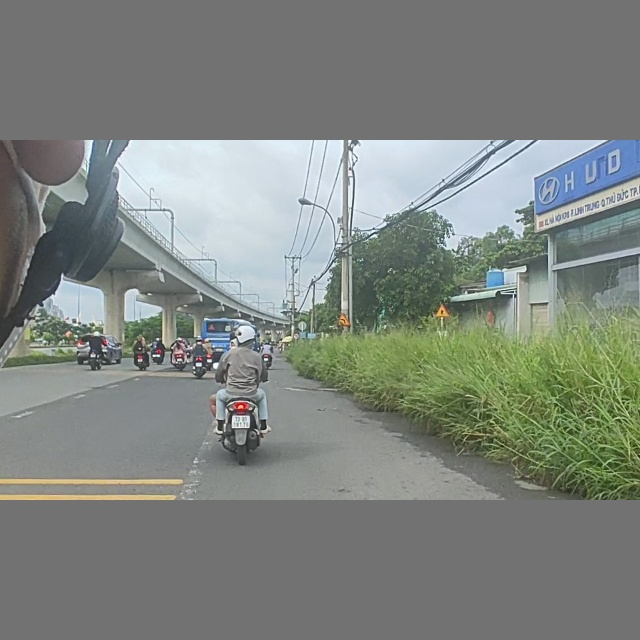P.123a: (293, 332, 300, 339)
W.201a: (337, 313, 353, 327)
W.207: (433, 302, 452, 318)
